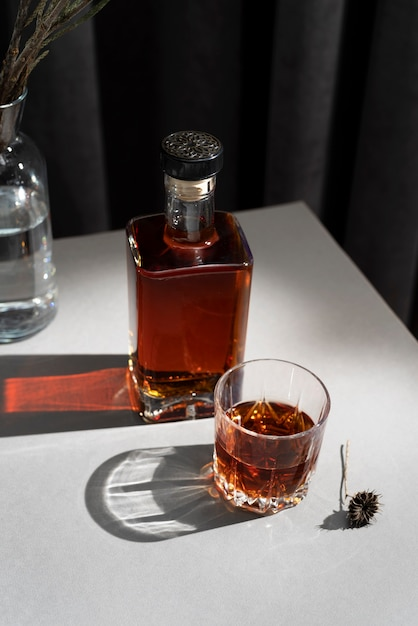alcohol: (122, 127, 257, 431), (209, 357, 333, 515)
